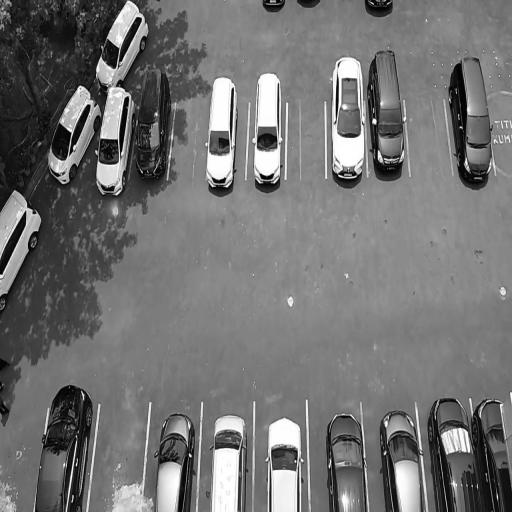Car: (28, 380, 98, 512), (443, 47, 498, 187), (40, 75, 104, 191), (427, 392, 487, 512), (1, 175, 45, 321), (87, 0, 154, 93), (88, 81, 139, 203), (330, 52, 370, 195), (131, 66, 175, 190), (469, 389, 512, 512), (149, 409, 199, 512), (205, 403, 252, 512), (378, 406, 426, 512), (370, 46, 406, 183), (203, 71, 242, 197), (251, 64, 287, 194), (261, 415, 309, 512), (324, 410, 369, 512)
Space Available: (87, 396, 150, 512), (405, 89, 452, 183), (287, 80, 325, 189), (168, 95, 210, 189), (487, 92, 512, 179)
